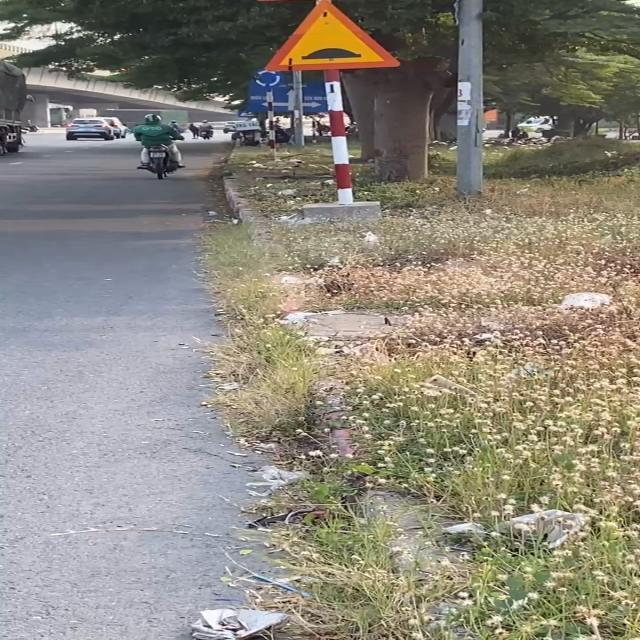221-duong-go-ghe: (261, 1, 401, 72)
303-noi-giao-nhau-chay-theo-vong-xuyen: (252, 69, 284, 89)
